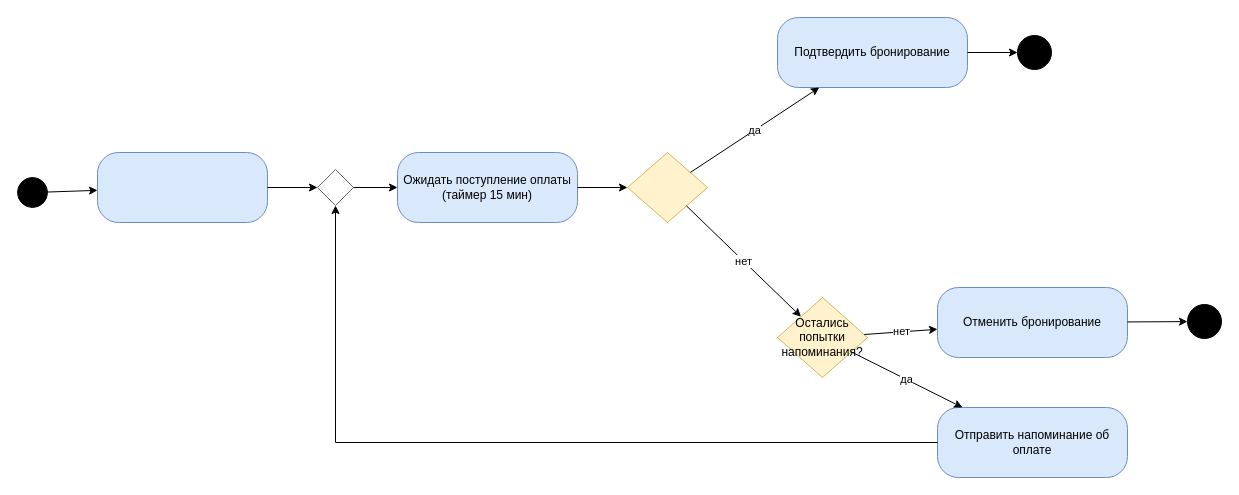
Image size: 1239x495. Some labels were removed from this diagram. The centre of each missing label's shape, as x and y in pixels:
Оплата поступила?: (x=667, y=187)
Отправить клиенту реквизиты для оплаты: (x=182, y=187)
